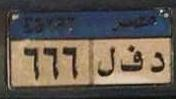6: (42, 47, 60, 80), (62, 47, 80, 78), (24, 47, 39, 81)
daal: (148, 50, 167, 73)
faa: (118, 43, 145, 72)
laam: (96, 46, 117, 78)
